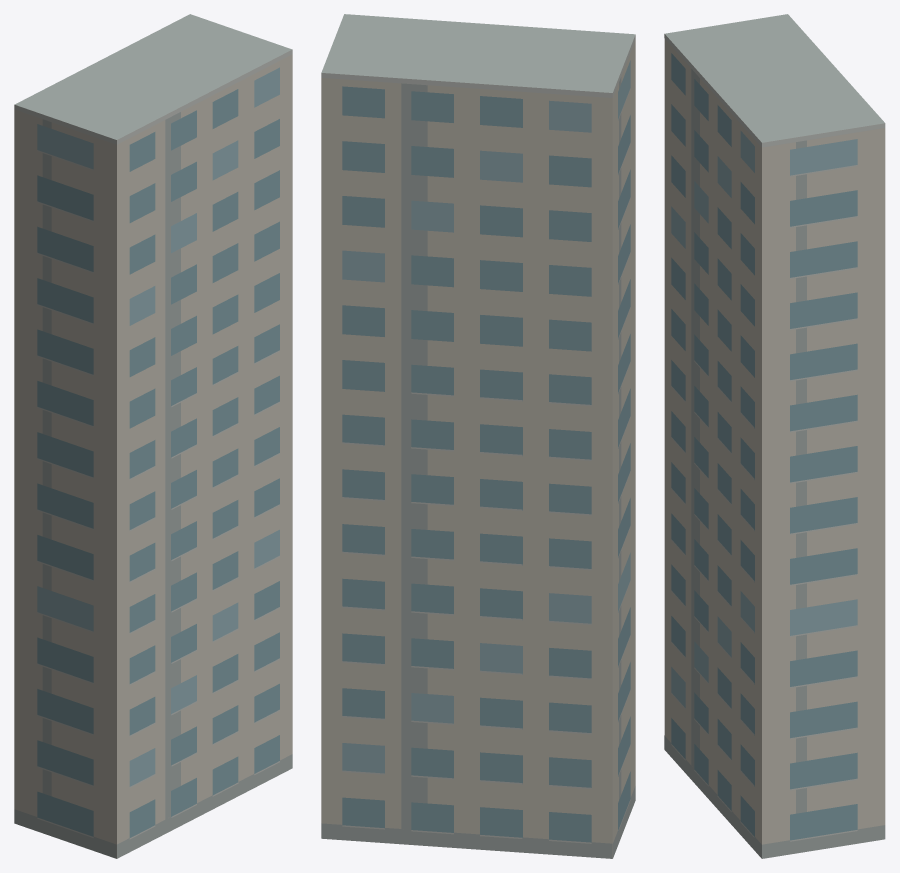
File: residential-78845c10-06b3-476d-84e3-51e656cef596.glb
3 views of the same model, side by side, from view 1: azimuth 30°, elevation 25°; view 2: azimuth 150°, elevation 25°; view 3: azimuth 270°, elevation 25° (orthographic). The views are drawn at different scales.
Parts seen in each view (by area): view 1: residential-78845c10-06b3-476d-84e3-51e656cef596.tmp; view 2: residential-78845c10-06b3-476d-84e3-51e656cef596.tmp; view 3: residential-78845c10-06b3-476d-84e3-51e656cef596.tmp.
Boxes of the visible parts, box(x1,y1,x2,y2) form: residential-78845c10-06b3-476d-84e3-51e656cef596.tmp: box(14, 14, 292, 858); residential-78845c10-06b3-476d-84e3-51e656cef596.tmp: box(321, 14, 635, 858); residential-78845c10-06b3-476d-84e3-51e656cef596.tmp: box(664, 14, 885, 858).
Bounding box in the file's own units: 14.29 × 37 × 10.35.
